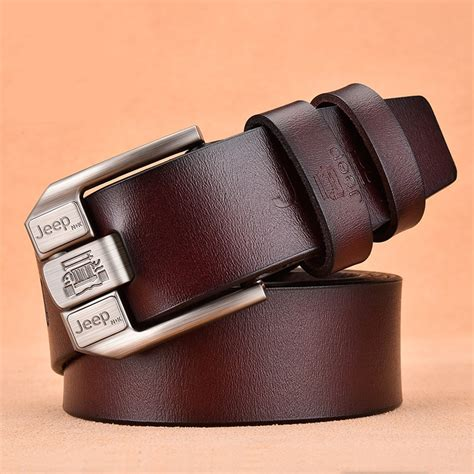cuero: (26, 81, 460, 429)
